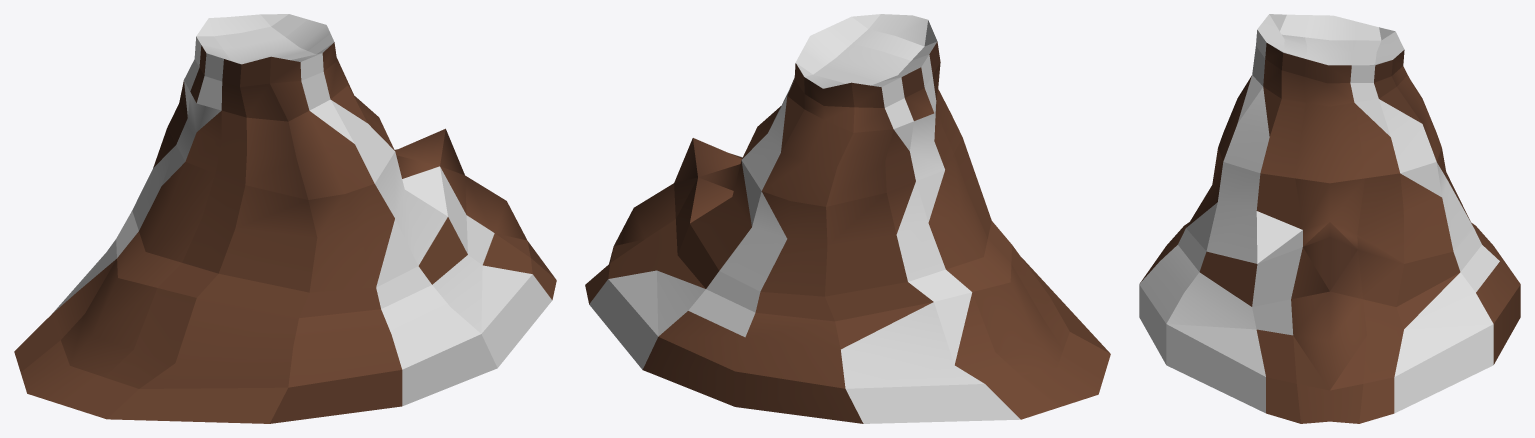
Rendered from volcano_03_active.fbx.
The picture shows the model from 3 angles, left to right: view 1: azimuth 30°, elevation 25°; view 2: azimuth 150°, elevation 25°; view 3: azimuth 270°, elevation 25°; orthographic projection. The views are drawn at different scales.
Parts seen in each view (by area): view 1: volcano_03_body, volcano_03_lava; view 2: volcano_03_body, volcano_03_lava; view 3: volcano_03_body, volcano_03_lava.
Boxes of the visible parts, box(x1,y1,x2,y2) form: volcano_03_body: box(14, 42, 556, 423); volcano_03_lava: box(52, 14, 552, 406); volcano_03_body: box(585, 41, 1110, 423); volcano_03_lava: box(589, 14, 1020, 423); volcano_03_body: box(1140, 43, 1520, 423); volcano_03_lava: box(1139, 14, 1499, 413).
Size of the model in its own units: 6136 by 3548 by 4421.
